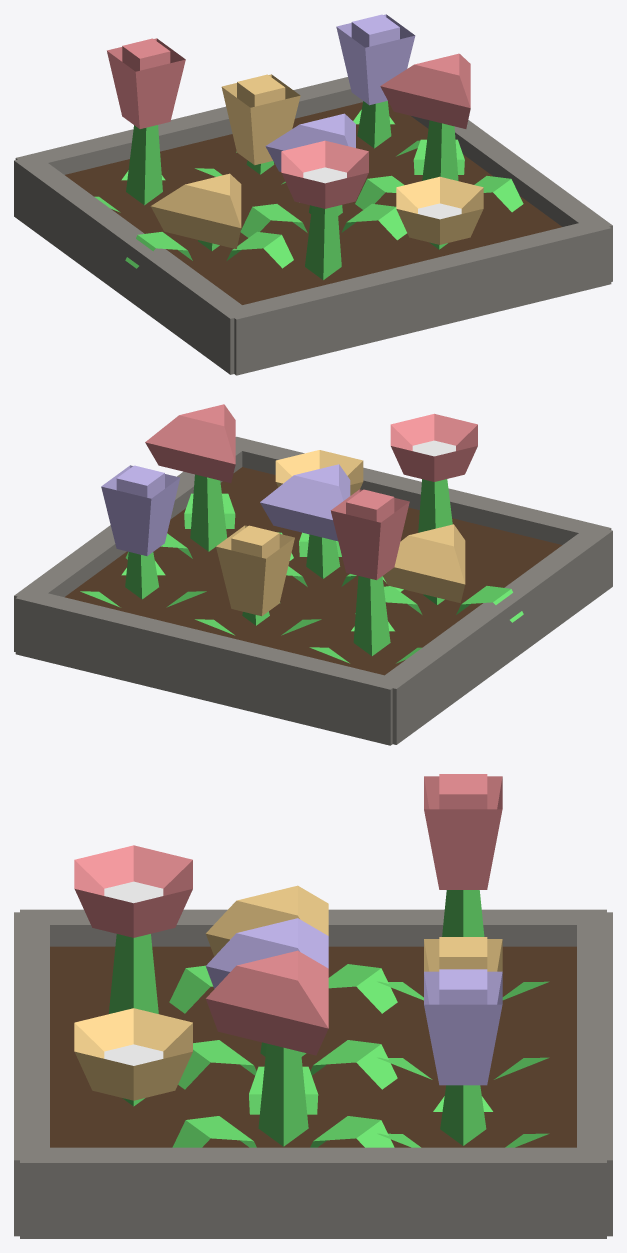
File: flowerbed.glb
The picture shows the model from 3 angles, top to bottom: view 1: azimuth 30°, elevation 25°; view 2: azimuth 150°, elevation 25°; view 3: azimuth 270°, elevation 25°; orthographic projection. The views are drawn at different scales.
Visible parts, largest first — view 1: bed_soil, flower_redB, flower_redA, flower_redC, flower_yellowB, flower_purpleA, flower_yellowA, flower_yellowC, flower_purpleB; view 2: bed_soil, flower_redB, flower_redA, flower_purpleA, flower_redC, flower_purpleB, flower_yellowB, flower_yellowA, flower_yellowC; view 3: bed_soil, flower_redB, flower_redC, flower_purpleA, flower_redA, flower_yellowC, flower_purpleB, flower_yellowB, flower_yellowA.
Part boxes in pixels (x1=…): bed_soil: x1=14, y1=77, x2=612, y2=375; flower_redB: x1=355, y1=53, x2=523, y2=212; flower_redA: x1=94, y1=38, x2=185, y2=212; flower_redC: x1=281, y1=140, x2=368, y2=280; flower_yellowB: x1=125, y1=173, x2=293, y2=268; flower_purpleA: x1=336, y1=14, x2=419, y2=156; flower_yellowA: x1=195, y1=74, x2=300, y2=184; flower_yellowC: x1=396, y1=176, x2=483, y2=249; flower_purpleB: x1=240, y1=113, x2=406, y2=240; bed_soil: x1=14, y1=436, x2=612, y2=745; flower_redB: x1=125, y1=404, x2=293, y2=560; flower_redA: x1=309, y1=489, x2=421, y2=663; flower_purpleA: x1=80, y1=465, x2=206, y2=607; flower_redC: x1=390, y1=413, x2=477, y2=532; flower_purpleB: x1=260, y1=464, x2=403, y2=591; flower_yellowB: x1=355, y1=524, x2=523, y2=622; flower_yellowA: x1=195, y1=525, x2=321, y2=635; flower_yellowC: x1=275, y1=450, x2=363, y2=495; bed_soil: x1=14, y1=909, x2=612, y2=1238; flower_redB: x1=172, y1=950, x2=394, y2=1147; flower_redC: x1=74, y1=845, x2=192, y2=1013; flower_purpleA: x1=377, y1=969, x2=549, y2=1147; flower_redA: x1=377, y1=774, x2=549, y2=1000; flower_yellowC: x1=74, y1=1008, x2=192, y2=1106; flower_purpleB: x1=178, y1=918, x2=397, y2=1089; flower_yellowB: x1=169, y1=885, x2=397, y2=1013; flower_yellowA: x1=377, y1=937, x2=549, y2=1079.
Size of the model in its own units: 1.01 by 0.468 by 1.
